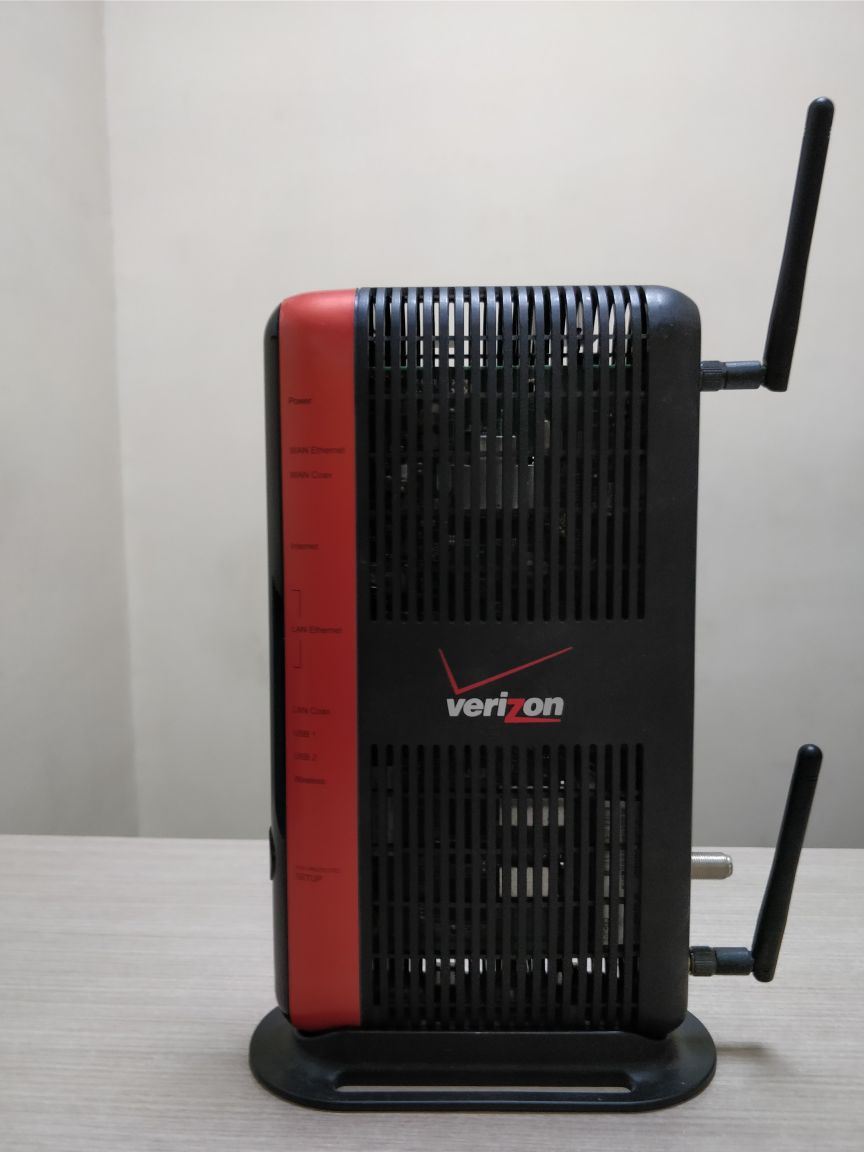Verizon Router: (198, 183, 847, 1152)
